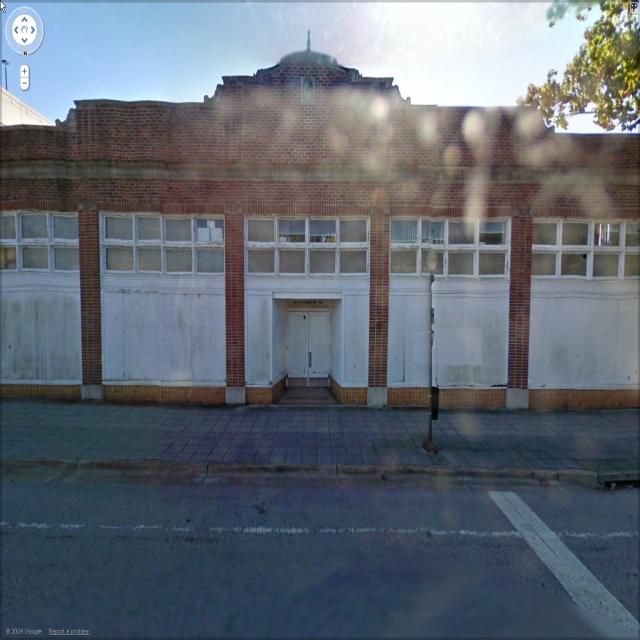b_1: (5, 112, 635, 397)
